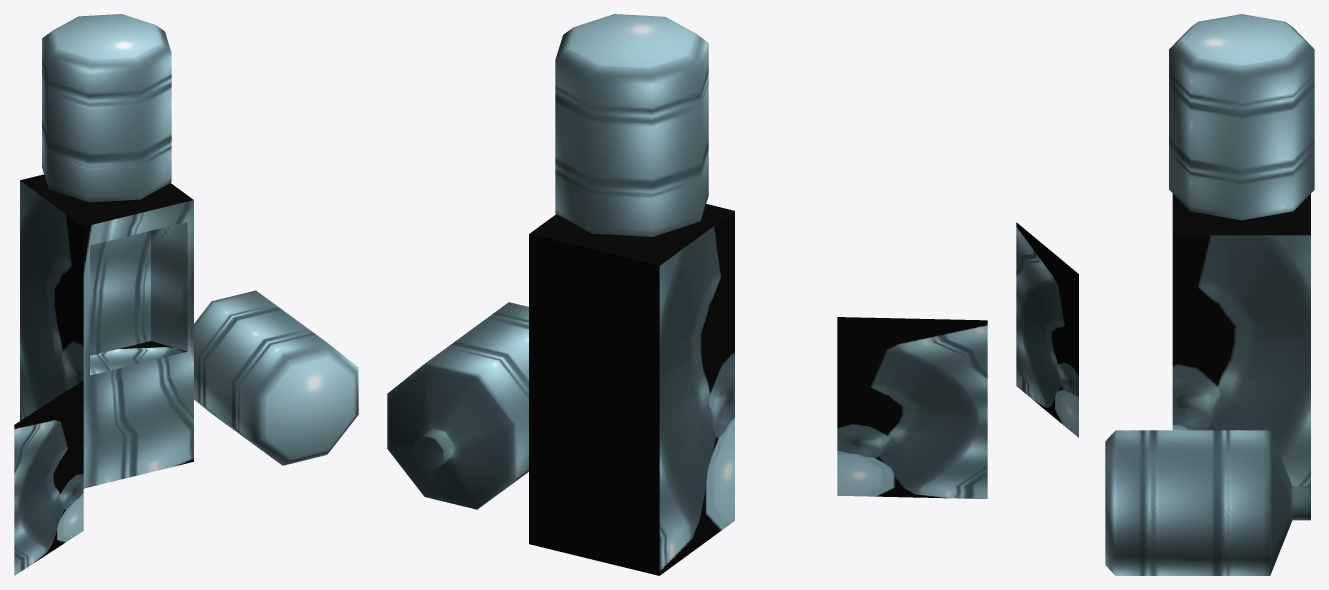
File: WaterCooler.fbx
3 views of the same model, side by side, from view 1: azimuth 30°, elevation 25°; view 2: azimuth 150°, elevation 25°; view 3: azimuth 270°, elevation 25° (orthographic). The views are drawn at different scales.
Parts seen in each view (by area): view 1: water cooler_3, water jug_2, water jug_4, Nemo MD_1; view 2: water cooler_3, water jug_2, Nemo MD_1, water jug_4; view 3: water cooler_3, water jug_2, water jug_4, Nemo MD_1.
Boxes of the visible parts, x1=… form: water cooler_3: x1=20, y1=174, x2=193, y2=488; water jug_2: x1=42, y1=14, x2=171, y2=202; water jug_4: x1=194, y1=290, x2=358, y2=465; Nemo MD_1: x1=14, y1=380, x2=83, y2=575; water cooler_3: x1=529, y1=204, x2=734, y2=575; water jug_2: x1=555, y1=14, x2=708, y2=236; Nemo MD_1: x1=837, y1=317, x2=987, y2=498; water jug_4: x1=387, y1=302, x2=528, y2=509; water cooler_3: x1=1172, y1=193, x2=1310, y2=485; water jug_2: x1=1169, y1=14, x2=1314, y2=220; water jug_4: x1=1105, y1=430, x2=1310, y2=575; Nemo MD_1: x1=1016, y1=222, x2=1078, y2=437.
Bounding box in the file's own units: 151 × 153 × 92.06.
Materials: 3 (3 with a texture image).
